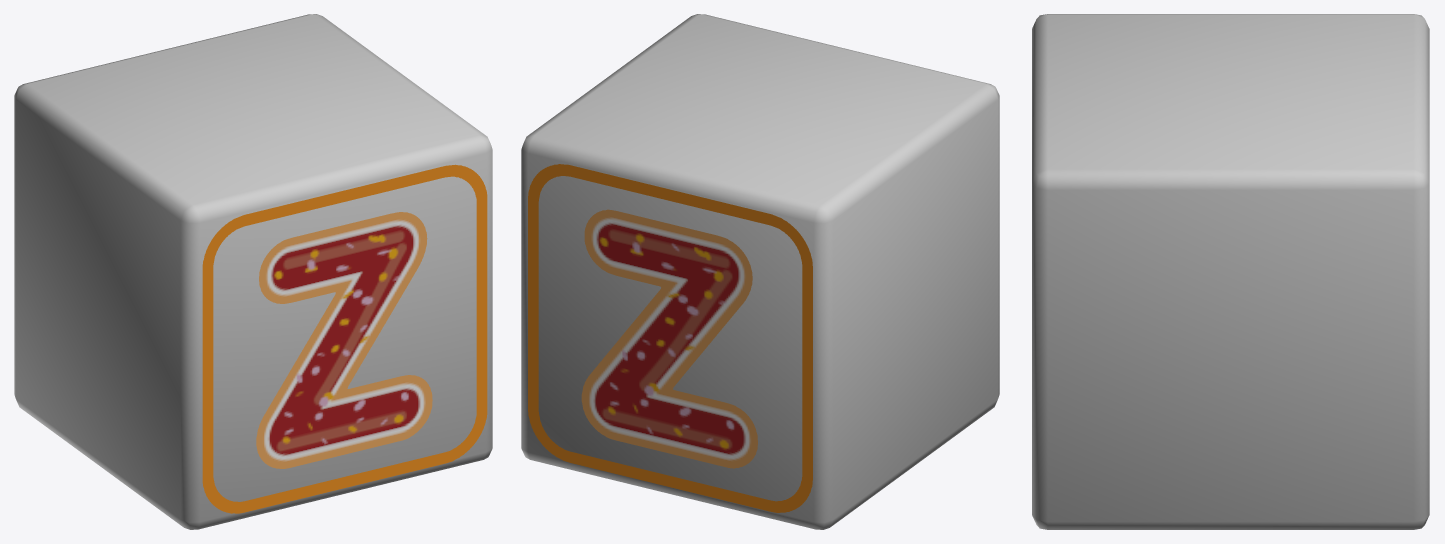
The model's file is Child_Cube_Z.FBX.
3 renders of one model, left to right at view 1: azimuth 30°, elevation 25°; view 2: azimuth 150°, elevation 25°; view 3: azimuth 270°, elevation 25°, orthographic. The views are drawn at different scales.
Visible parts, largest first — view 1: Child_Cube_Z; view 2: Child_Cube_Z; view 3: Child_Cube_Z.
Boxes of the visible parts, x1,y1,x2,y2 form: Child_Cube_Z: (14, 14, 492, 529); Child_Cube_Z: (521, 14, 999, 529); Child_Cube_Z: (1032, 14, 1429, 529).
Bounding box in the file's own units: 0.2122 × 0.2122 × 0.2149.
